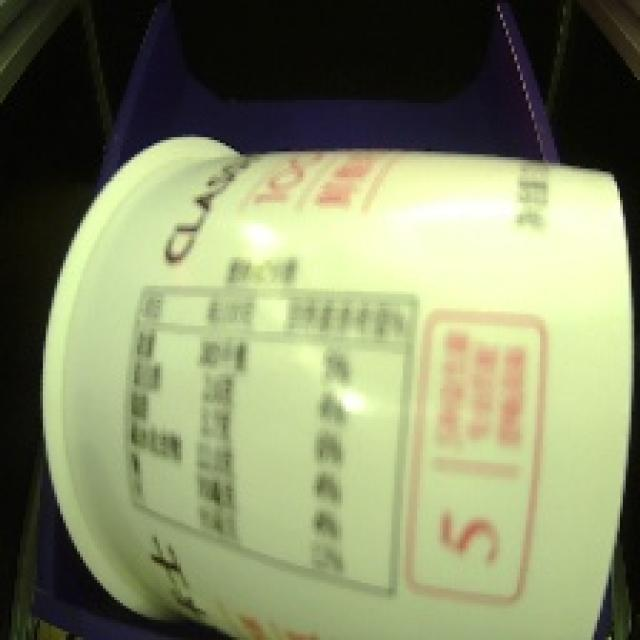cups: (23, 120, 640, 640)
